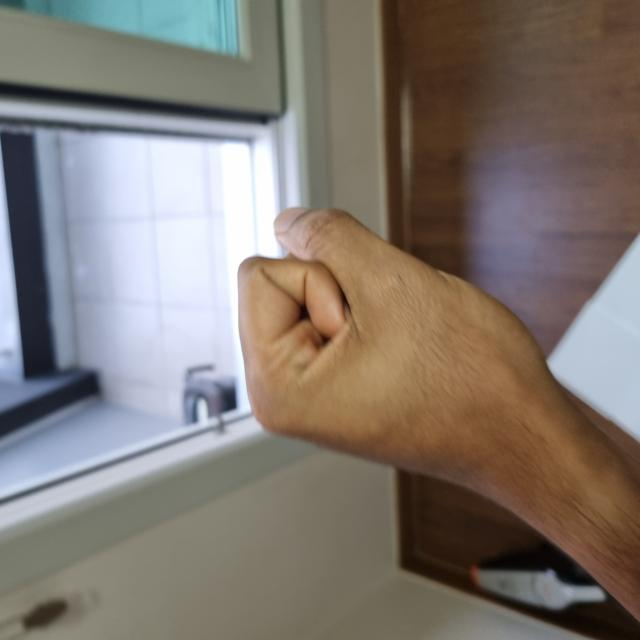Rock: (157, 239, 431, 550)
